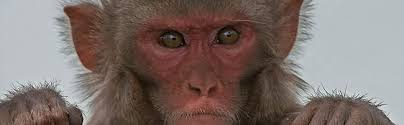monkey: (45, 4, 341, 114)
